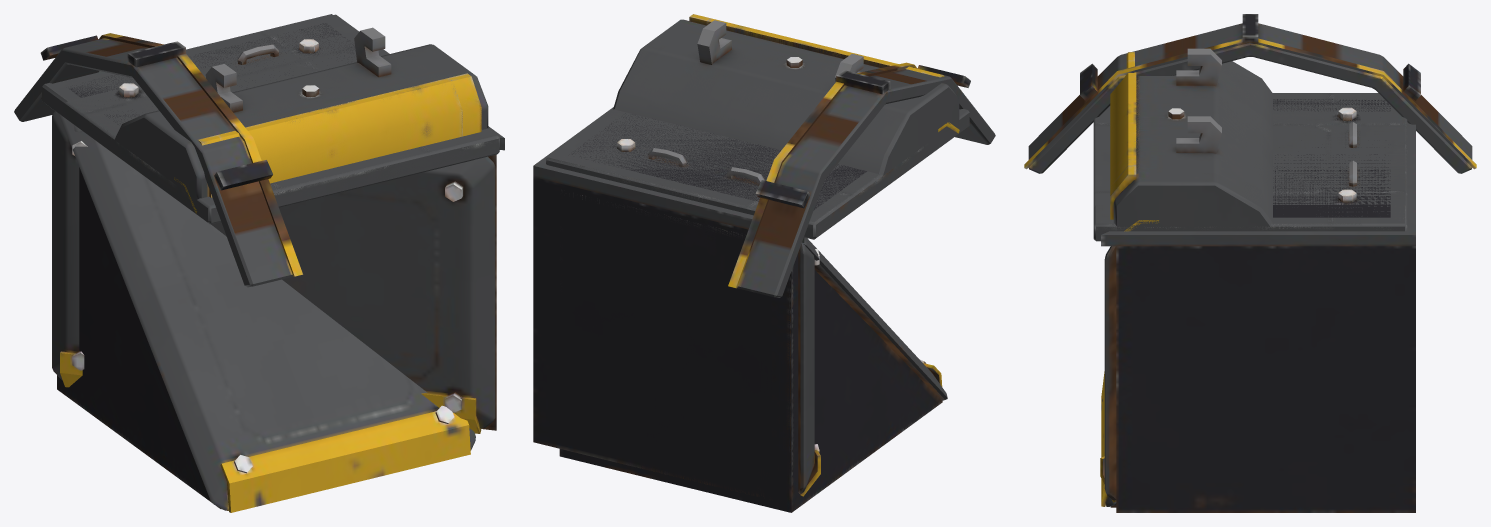
The model's file is R4H_HullKit.glb.
The picture shows the model from 3 angles, left to right: view 1: azimuth 30°, elevation 25°; view 2: azimuth 150°, elevation 25°; view 3: azimuth 270°, elevation 25°; orthographic projection. The views are drawn at different scales.
Parts seen in each view (by area): view 1: ramp, cheek, lip, nose_0, nose_2, nose_1, nose_3, plate_08_0, plate_10_0, plate_09_0, plate_14_0, plate_04_0 (+10 smaller); view 2: cheek, ramp, nose_2, lip, nose_0, nose_3, nose_1, plate_05_0, gasket, plate_07_0, plate_00_0, plate_02_0 (+6 smaller); view 3: cheek, lip, nose_0, nose_1, plate_04_0, nose_2, plate_12_0, gasket, plate_00_1, nose_3, plate_08_0, plate_00_0 (+10 smaller).
Part boxes in pixels (bbox=[...]): ramp: bbox=[57, 114, 475, 512]; cheek: bbox=[52, 14, 504, 433]; lip: bbox=[14, 33, 302, 287]; nose_0: bbox=[212, 27, 462, 183]; nose_2: bbox=[114, 49, 462, 210]; nose_1: bbox=[218, 44, 488, 182]; nose_3: bbox=[147, 28, 486, 196]; plate_08_0: bbox=[114, 45, 474, 206]; plate_10_0: bbox=[63, 40, 472, 224]; plate_09_0: bbox=[115, 32, 499, 207]; plate_14_0: bbox=[42, 31, 453, 221]; plate_04_0: bbox=[87, 24, 345, 90]; cheek: bbox=[533, 107, 820, 499]; ramp: bbox=[559, 190, 947, 512]; nose_2: bbox=[639, 18, 959, 188]; lip: bbox=[728, 62, 995, 297]; nose_0: bbox=[637, 18, 924, 169]; nose_3: bbox=[615, 14, 942, 173]; nose_1: bbox=[613, 14, 924, 168]; plate_05_0: bbox=[546, 109, 765, 209]; gasket: bbox=[572, 113, 866, 210]; plate_07_0: bbox=[548, 110, 852, 238]; plate_00_0: bbox=[617, 125, 840, 186]; plate_02_0: bbox=[613, 123, 959, 228]; cheek: bbox=[1100, 122, 1415, 512]; lip: bbox=[1024, 14, 1476, 173]; nose_0: bbox=[1110, 48, 1272, 214]; nose_1: bbox=[1110, 60, 1273, 231]; plate_04_0: bbox=[1273, 111, 1406, 205]; nose_2: bbox=[1110, 52, 1272, 211]; plate_12_0: bbox=[1096, 111, 1407, 207]; gasket: bbox=[1273, 99, 1390, 217]; plate_00_1: bbox=[1273, 108, 1360, 204]; nose_3: bbox=[1110, 52, 1272, 220]; plate_08_0: bbox=[1093, 111, 1360, 206]; plate_00_0: bbox=[1273, 111, 1360, 204].
Size of the model in its own units: 0.565 by 0.7266 by 0.7927.
1 material, 1 textured.
